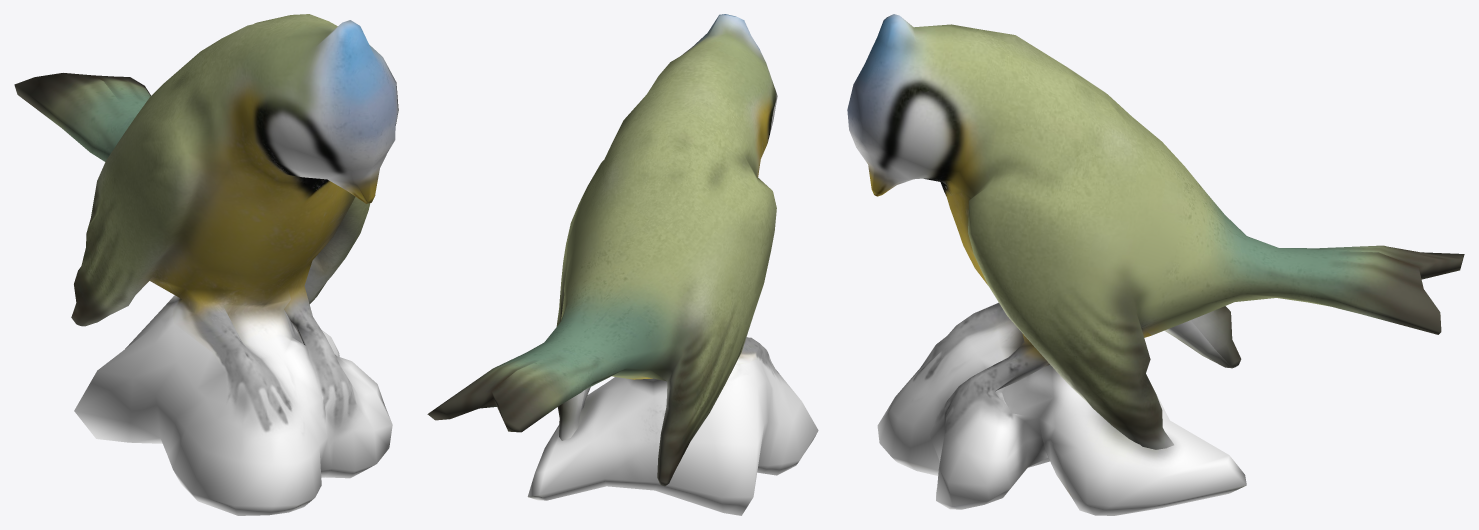
File: bird.FBX
3 renders of one model, left to right at view 1: azimuth 30°, elevation 25°; view 2: azimuth 150°, elevation 25°; view 3: azimuth 270°, elevation 25°, orthographic. The views are drawn at different scales.
Parts seen in each view (by area): view 1: bird; view 2: bird; view 3: bird.
Part boxes in pixels (left/top/right/bottom): bird: left=14, top=14, right=398, bottom=515; bird: left=427, top=14, right=818, bottom=515; bird: left=847, top=14, right=1464, bottom=515.
Bounding box in the file's own units: 0.0597 × 0.1113 × 0.1316.
